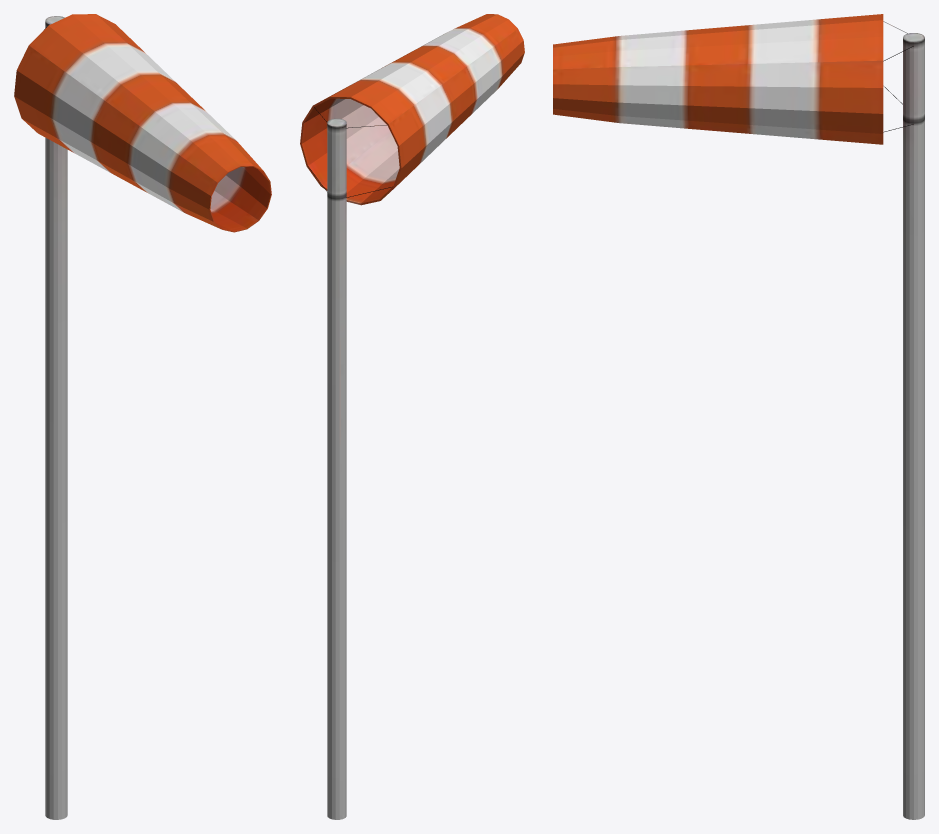
File: windsock.lod0.glb
3 renders of one model, left to right at view 1: azimuth 30°, elevation 25°; view 2: azimuth 150°, elevation 25°; view 3: azimuth 270°, elevation 25°, orthographic. The views are drawn at different scales.
Visible parts, largest first — view 1: Object_4; view 2: Object_4; view 3: Object_4.
Part boxes in pixels (x1,y1,x2,y2): Object_4: (14, 14, 271, 819); Object_4: (300, 14, 524, 819); Object_4: (553, 14, 924, 819).
Bounding box in the file's own units: 0.898 × 6 × 2.54.
Materials: 1 (1 with a texture image).
